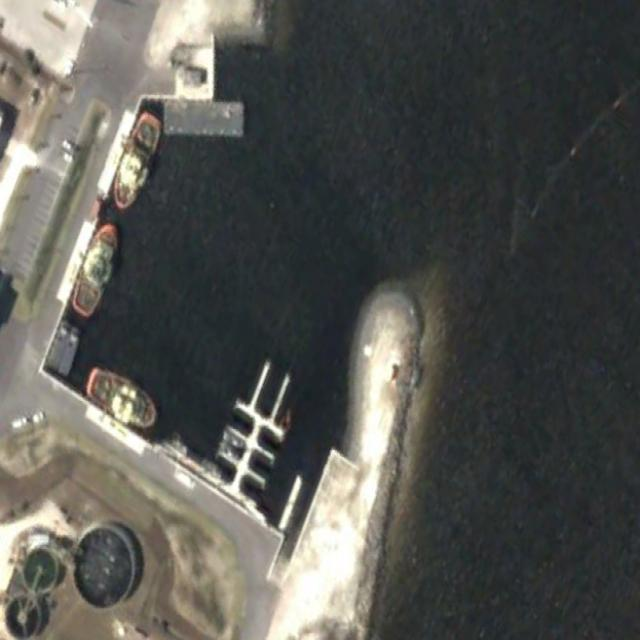Hovercraft: (81, 356, 162, 439), (67, 217, 125, 323), (107, 109, 163, 215)
